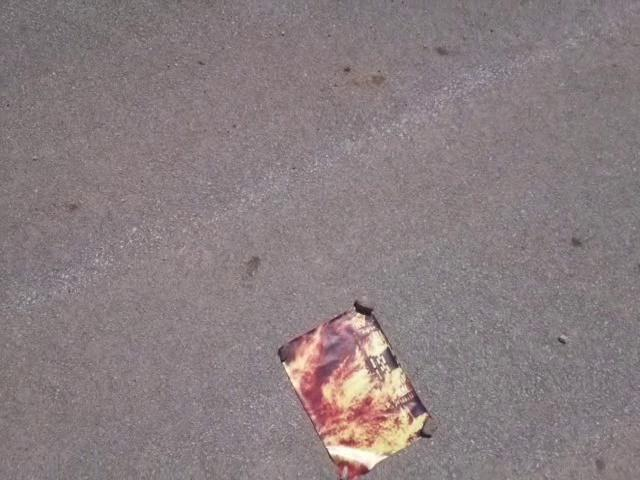fire-poster: (274, 298, 434, 479)
